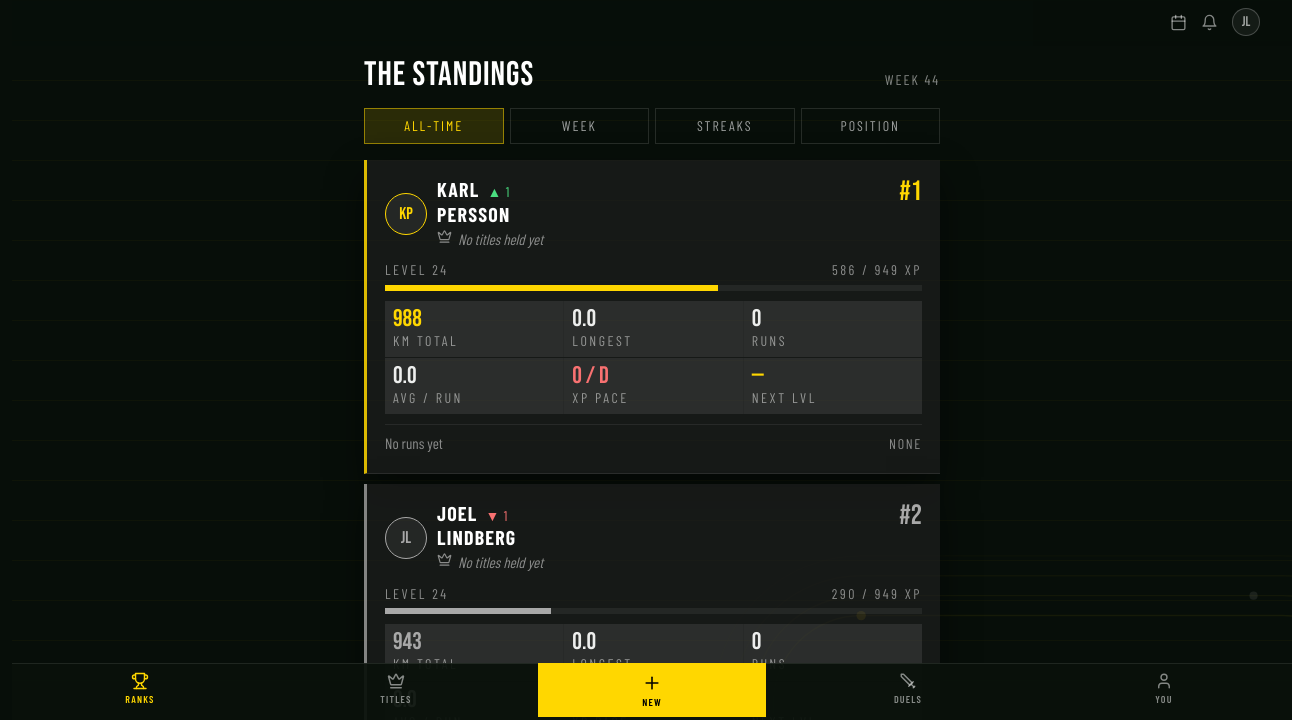
Test: Runner card som route (ADR 006 beslut 6) › klick på en löpare i Leaderboard öppnar /runner/:id
Step 1. Click the button "Karl Persson" → (458, 189), box x1=437 y1=178 x2=876 y2=225
(page scrolled)
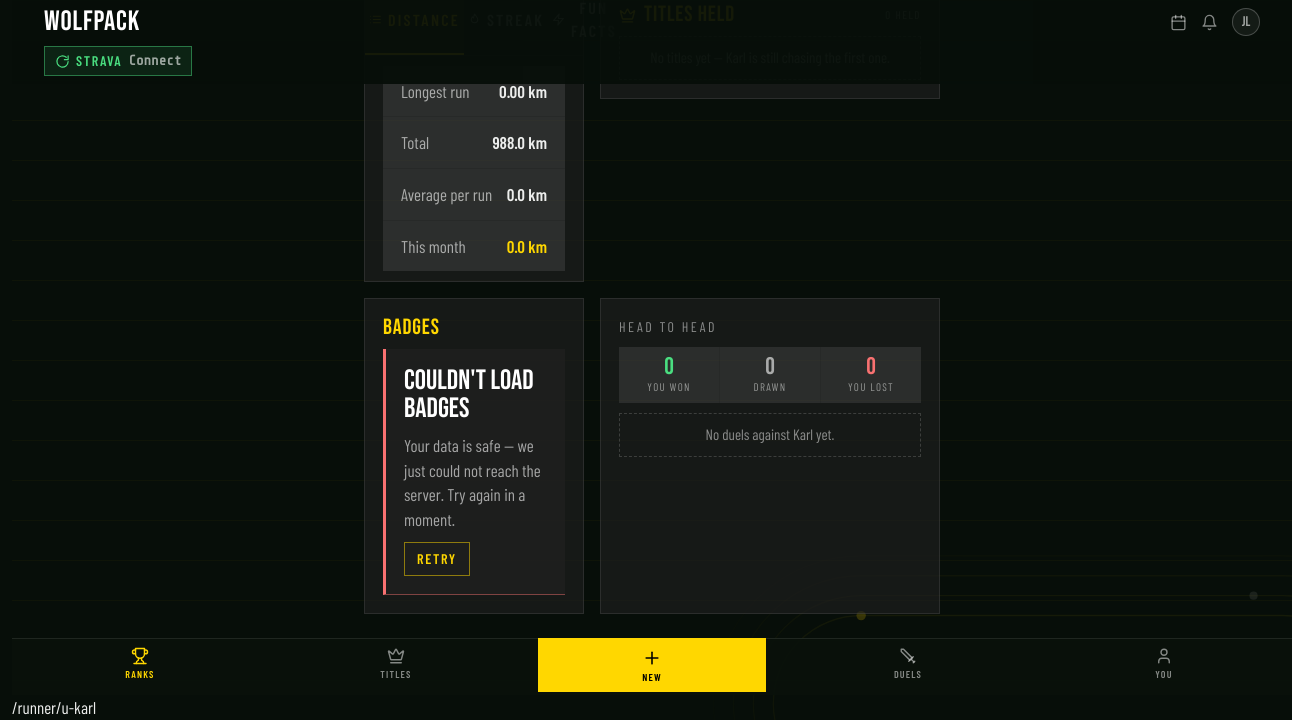
expect the text with test id "location" reads "/runner/u-karl": met, box x1=12 y1=697 x2=96 y2=717
